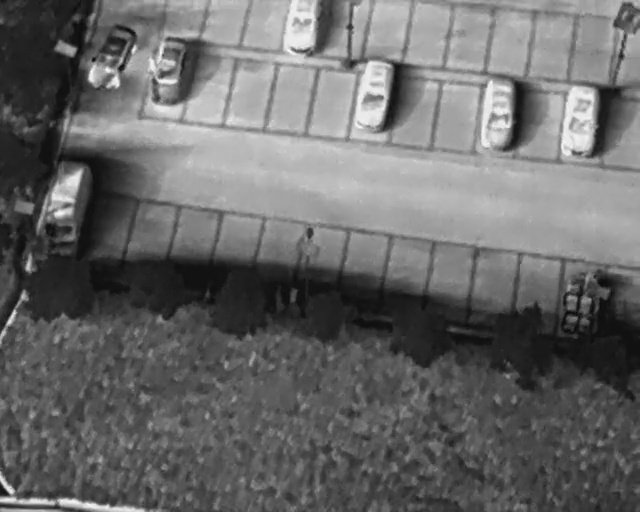Car: (81, 17, 145, 96), (347, 55, 399, 135), (142, 35, 194, 109), (475, 74, 520, 153), (557, 83, 602, 159), (284, 0, 322, 55)
OtherVehicle: (37, 156, 95, 256)
